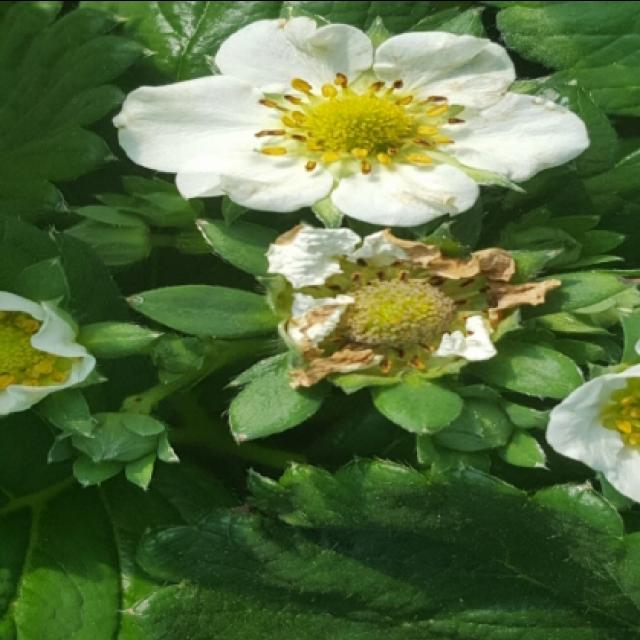Blossom Blight: (301, 254, 503, 378), (251, 67, 470, 175)
